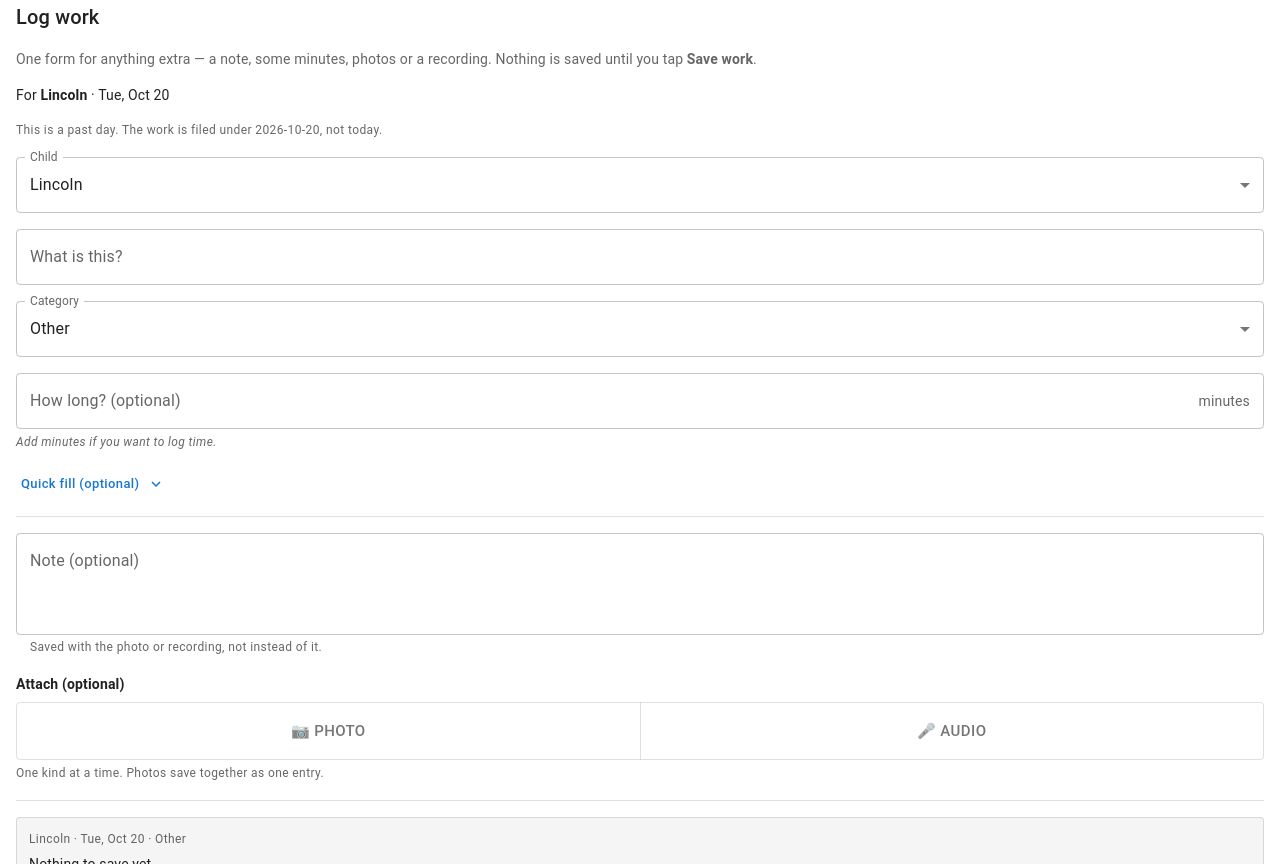
Log work + real AudioRecorder — a stopped take is in the draft › releases the save when permission is refused, and says so
The width and height of the screenshot is (1280, 864).
In the text box labelled "Note (optional)": x=640, y=584 30,549 -> 1250,618, type "Lincoln narrating"
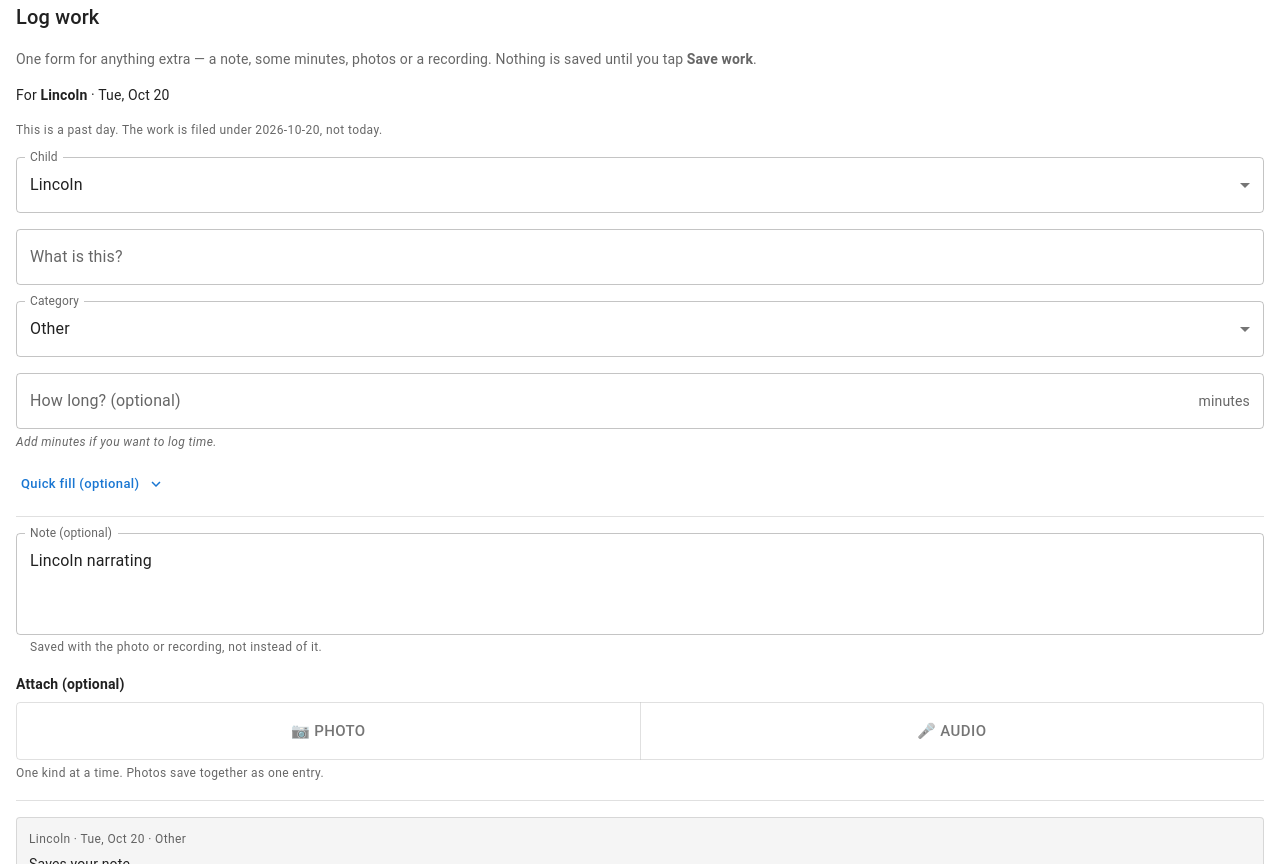
Click the button "🎤 Audio": x=952, y=731 640,702 -> 1264,760
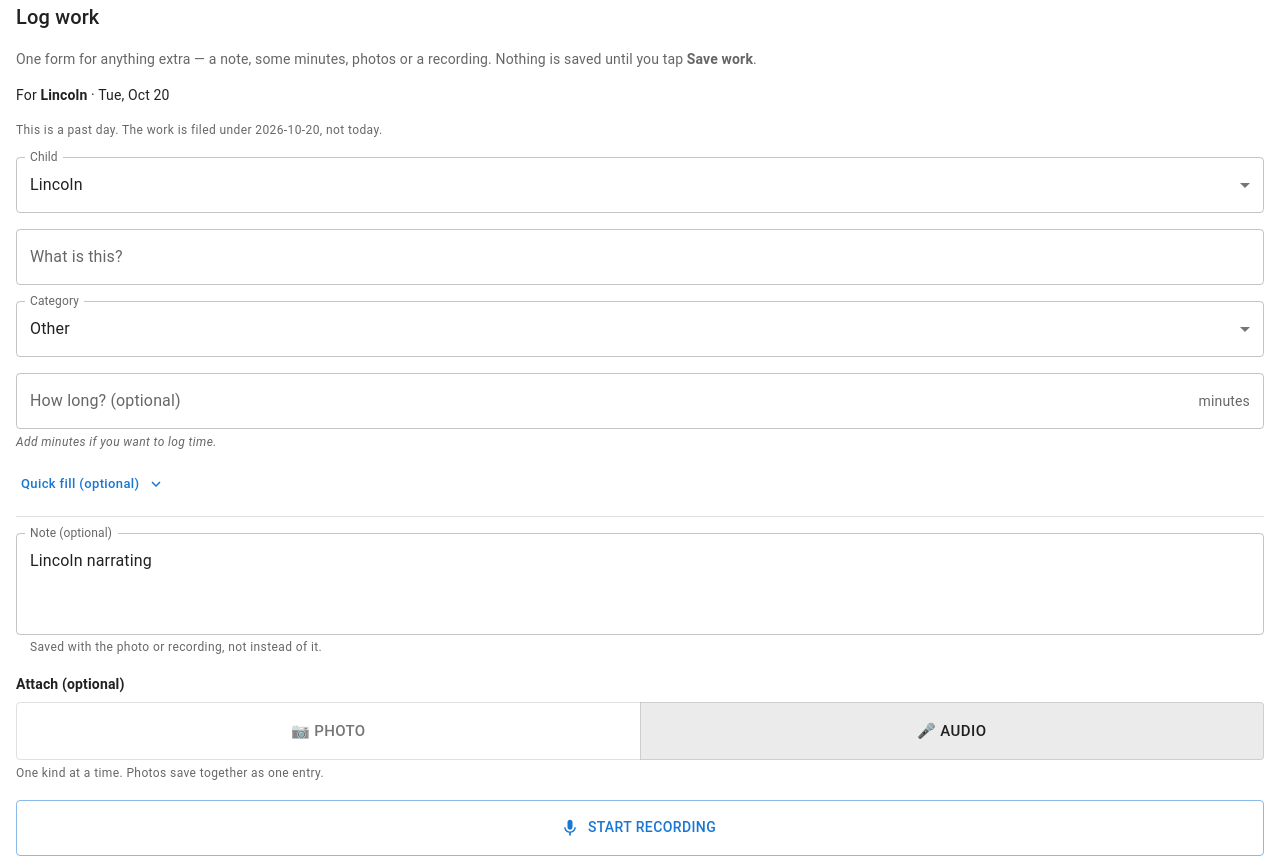
Click the button "Start Recording": x=640, y=828 16,800 -> 1264,856
(page scrolled)
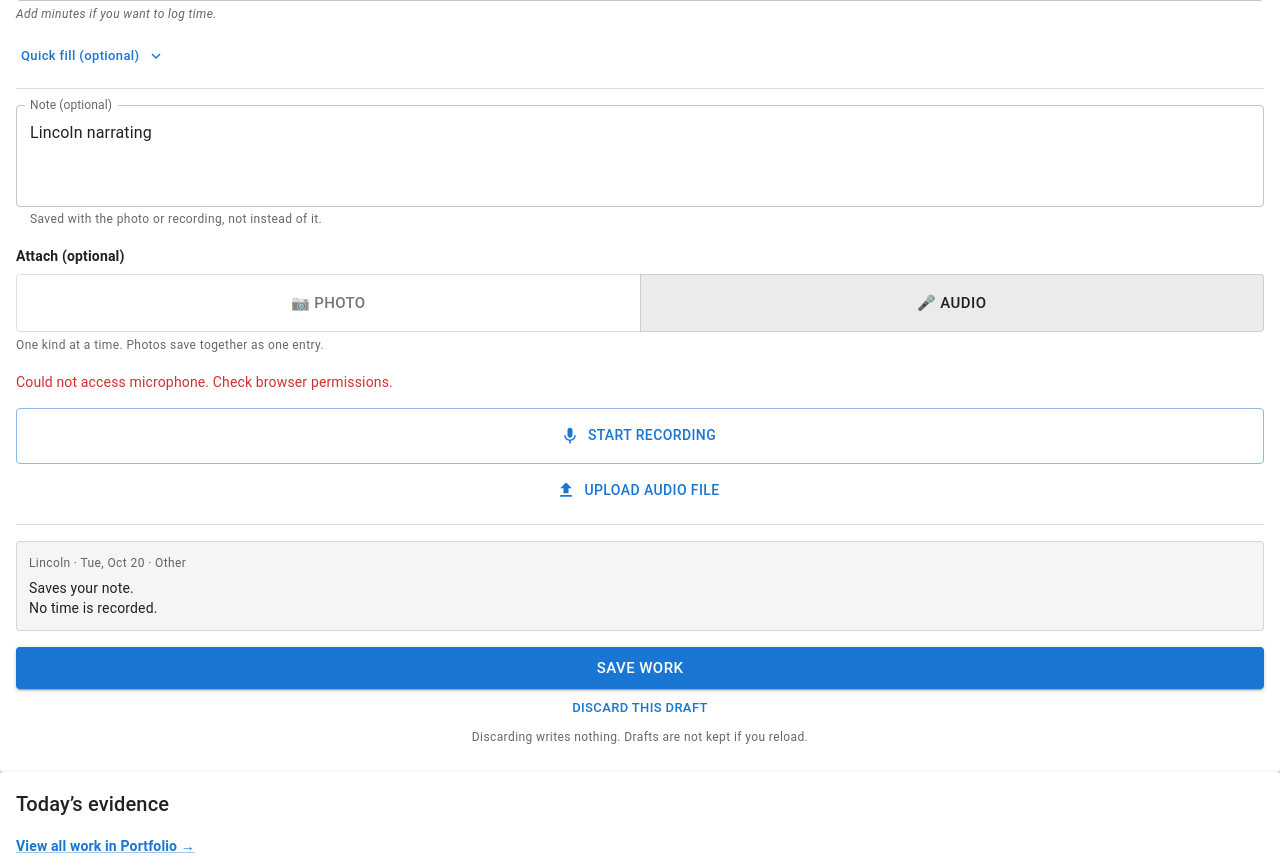
expect the button "Save work" is enabled: met, box 16,647 -> 1264,689
expect the button "Start Recording" is enabled: met, box 16,408 -> 1264,464
expect the text "Could not access microphone. Check browser permissions." is shown: met, box 16,374 -> 393,390
